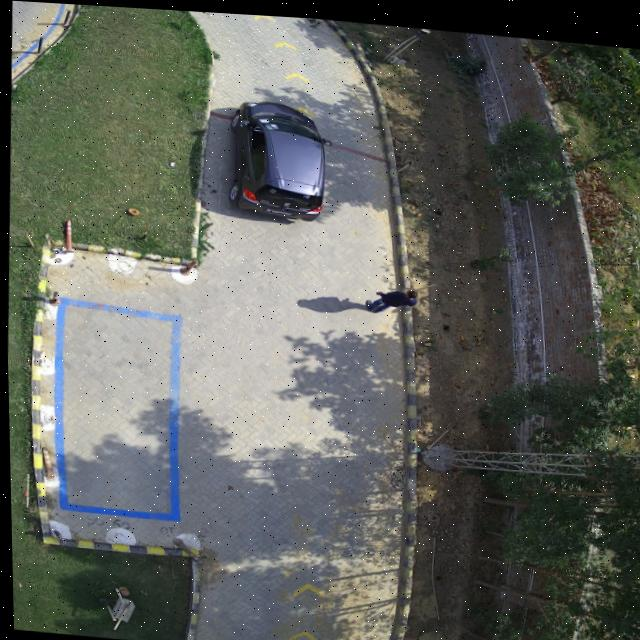car: (231, 97, 324, 219)
